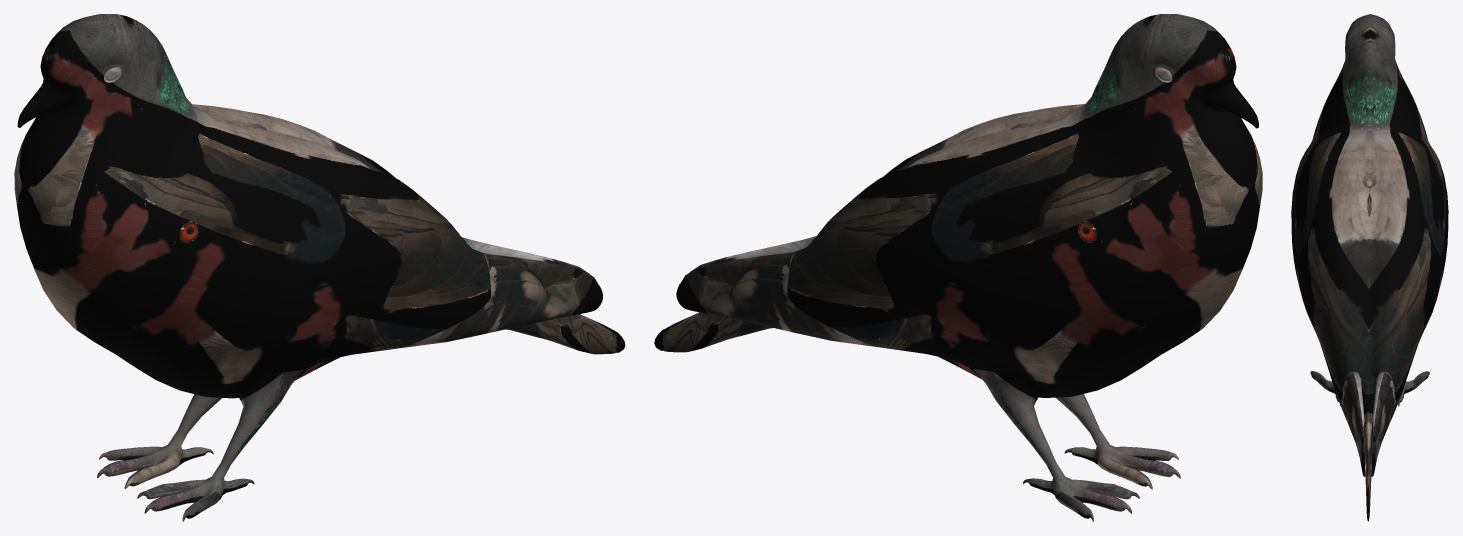
Rendered from pigeonExplosion.dae.
The picture shows the model from 3 angles, left to right: view 1: azimuth 30°, elevation 25°; view 2: azimuth 150°, elevation 25°; view 3: azimuth 270°, elevation 25°; orthographic projection. The views are drawn at different scales.
Parts seen in each view (by area): view 1: pigeon; view 2: pigeon; view 3: pigeon.
Part boxes in pixels (box(x1,y1,x2,y2)): pigeon: box(14, 14, 625, 521); pigeon: box(654, 14, 1262, 521); pigeon: box(1291, 14, 1448, 521).
Bounding box in the file's own units: 34.81 × 26.72 × 11.13.
1 material, 1 textured.
